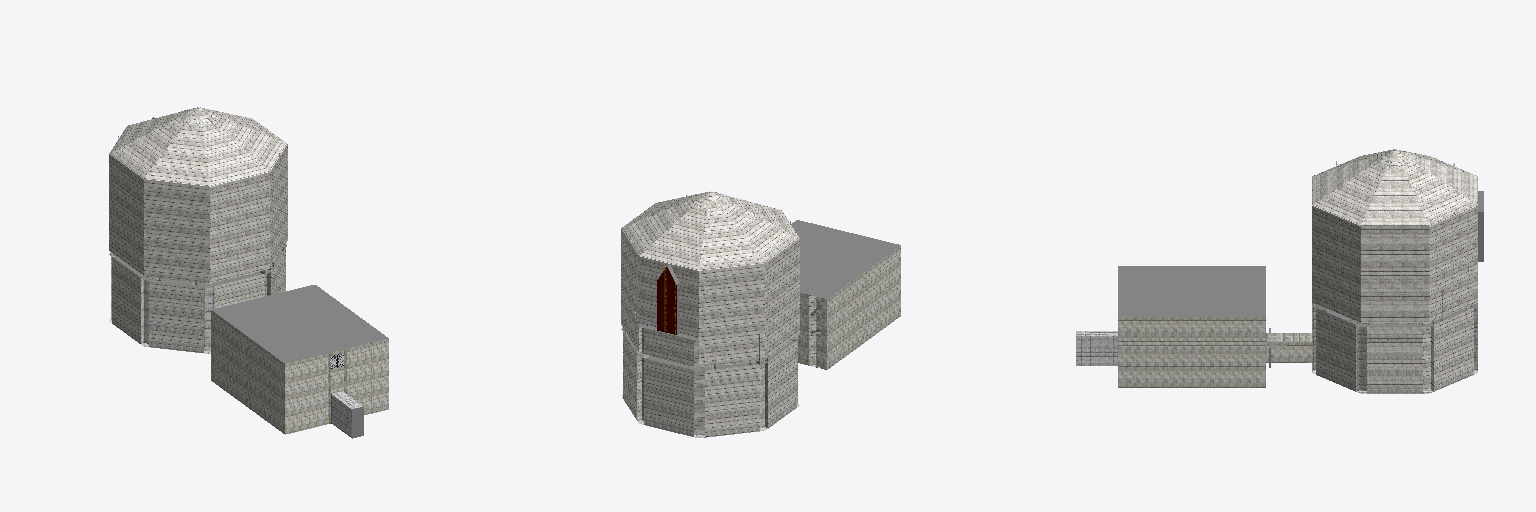
3 views of the same model, side by side, from view 1: azimuth 30°, elevation 25°; view 2: azimuth 150°, elevation 25°; view 3: azimuth 270°, elevation 25° (orthographic).
Parts seen in each view (by area): view 1: TempleofTime; view 2: TempleofTime; view 3: TempleofTime.
Boxes of the visible parts, x1=… form: TempleofTime: x1=109, y1=107, x2=388, y2=438; TempleofTime: x1=621, y1=191, x2=900, y2=437; TempleofTime: x1=1076, y1=149, x2=1483, y2=393.
Bounding box in the file's own units: 576 × 816 × 1411.
Materials: 35 (34 with a texture image).